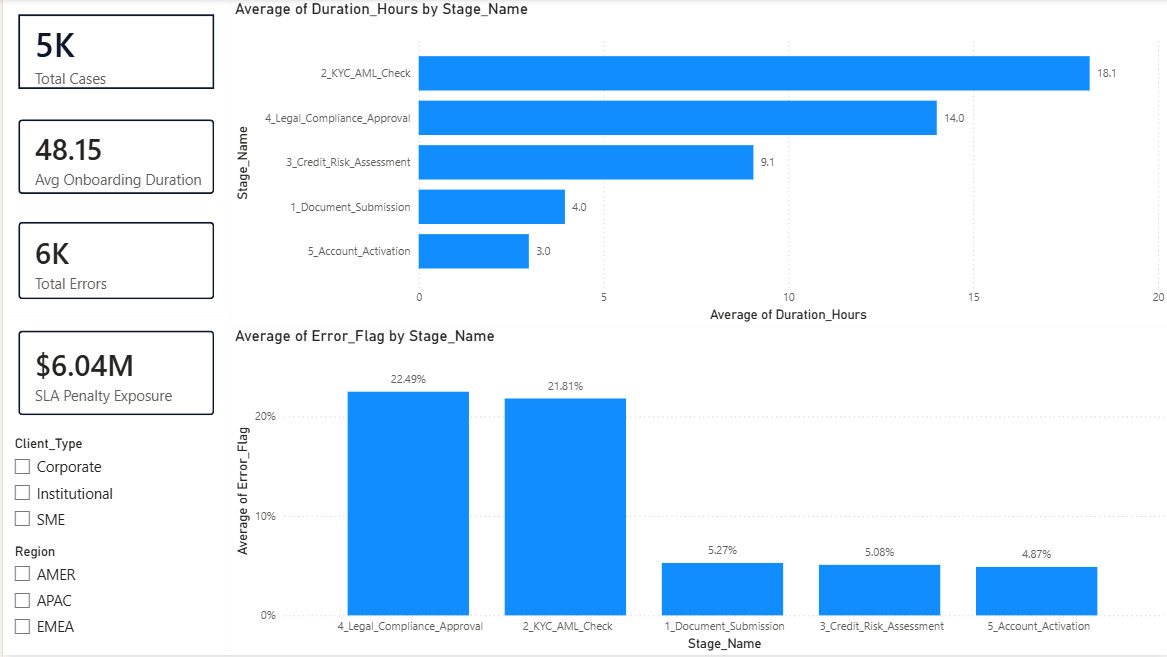

What the dashboard file says about the page in this screenshot:
{"tool":"powerbi","page":{"name":"Page 1","canvas":[1280,720],"ordinal":0},"visuals":[{"type":"cardVisual","fields":{"Data":["corporate_onboarding_logs.Total Cases"]},"box":[0,0,249.7,116.6],"z":0},{"type":"cardVisual","fields":{"Data":["corporate_onboarding_logs.Avg Onboarding Duration"]},"box":[0,115.3,249.7,116.6],"z":1000},{"type":"cardVisual","fields":{"Data":["corporate_onboarding_logs.Total Errors"]},"box":[0,227.8,249.7,119.4],"z":2000},{"type":"cardVisual","fields":{"Data":["corporate_onboarding_logs.SLA Penalty Exposure"]},"box":[0,347.2,249.7,127.6],"z":3000},{"type":"slicer","fields":{"Values":["corporate_onboarding_logs.Client_Type"]},"box":[0,474.8,249.7,127.6],"z":4000},{"type":"slicer","fields":{"Values":["corporate_onboarding_logs.Region"]},"box":[0,592.8,249.7,127.6],"z":5000},{"type":"clusteredBarChart","fields":{"Category":["corporate_onboarding_logs.Stage_Name"],"Y":["Avg(corporate_onboarding_logs.Duration_Hours)"]},"box":[249.7,0,1030.5,359.5],"z":6000},{"type":"clusteredColumnChart","fields":{"Category":["corporate_onboarding_logs.Stage_Name"],"Y":["Avg(corporate_onboarding_logs.Error_Flag)"]},"box":[249.7,359.5,1030.5,360.9],"z":7000}]}

Visuals, with their boxes in screenshot pixels (x1, y1, x2, y2), scaled from the page's 1280x720 canvas onto the 1167x657 screenshot:
cardVisual - corporate_onboarding_logs.Total Cases: 0:0:228:106
cardVisual - corporate_onboarding_logs.Avg Onboarding Duration: 0:105:228:212
cardVisual - corporate_onboarding_logs.Total Errors: 0:208:228:317
cardVisual - corporate_onboarding_logs.SLA Penalty Exposure: 0:317:228:433
slicer - corporate_onboarding_logs.Client_Type: 0:433:228:550
slicer - corporate_onboarding_logs.Region: 0:541:228:656
clusteredBarChart - corporate_onboarding_logs.Stage_Name x Avg(corporate_onboarding_logs.Duration_Hours): 228:0:1166:328
clusteredColumnChart - corporate_onboarding_logs.Stage_Name x Avg(corporate_onboarding_logs.Error_Flag): 228:328:1166:656
